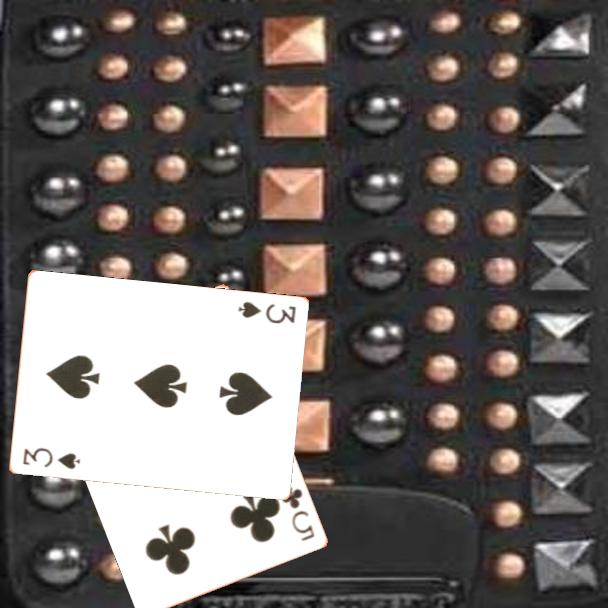c05: (278, 483, 318, 544)
s03: (235, 298, 299, 326), (19, 444, 82, 472)
